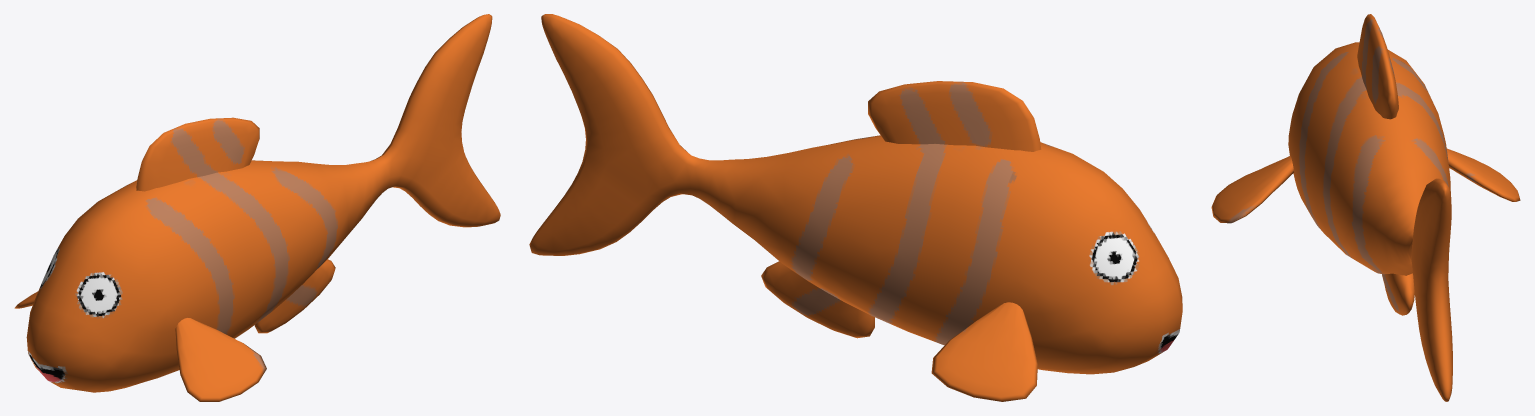
The model's file is ikan.glb.
The picture shows the model from 3 angles, left to right: view 1: azimuth 30°, elevation 25°; view 2: azimuth 150°, elevation 25°; view 3: azimuth 270°, elevation 25°; orthographic projection. The views are drawn at different scales.
Visible parts, largest first — view 1: Object_5; view 2: Object_5; view 3: Object_5.
Boxes of the visible parts, x1,y1,x2,y2 form: Object_5: (14, 14, 500, 401); Object_5: (529, 14, 1182, 401); Object_5: (1211, 14, 1520, 401).
Bounding box in the file's own units: 7.44 × 3.33 × 3.86.
1 material, 1 textured.
